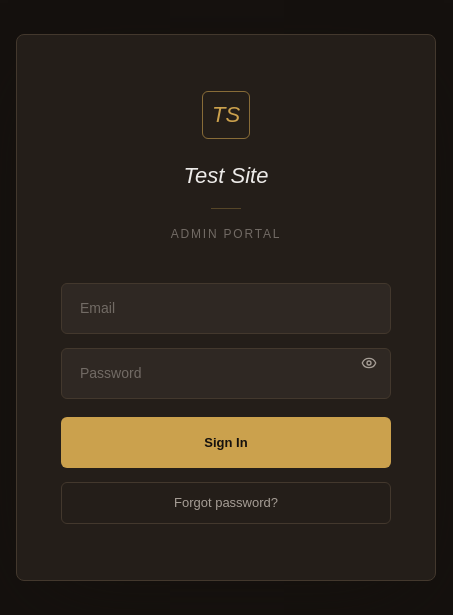
Test case: forgot password › returns to sign in
This screenshot has width=453, height=615.
Click the button "Forgot password?": (226, 503) [61,482,391,524]
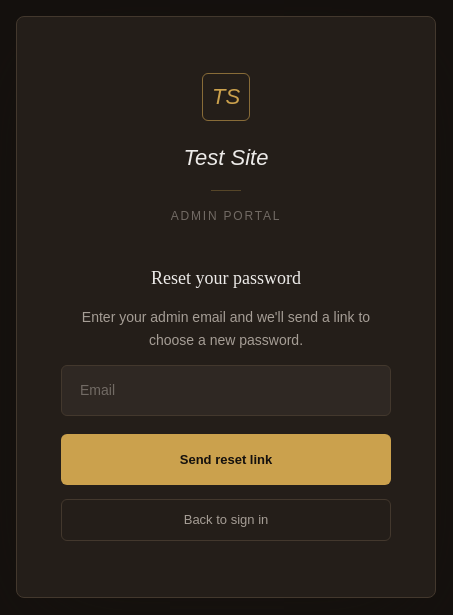
Click the button "Back to sign in": (226, 520) [61,499,391,541]
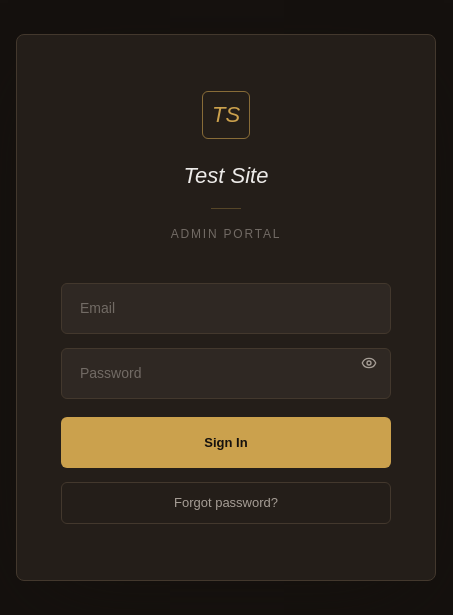
Expected: the button "Sign In" is shown, [61,416,391,468]
